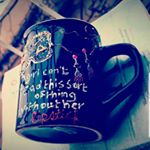cups: (14, 15, 146, 146)
